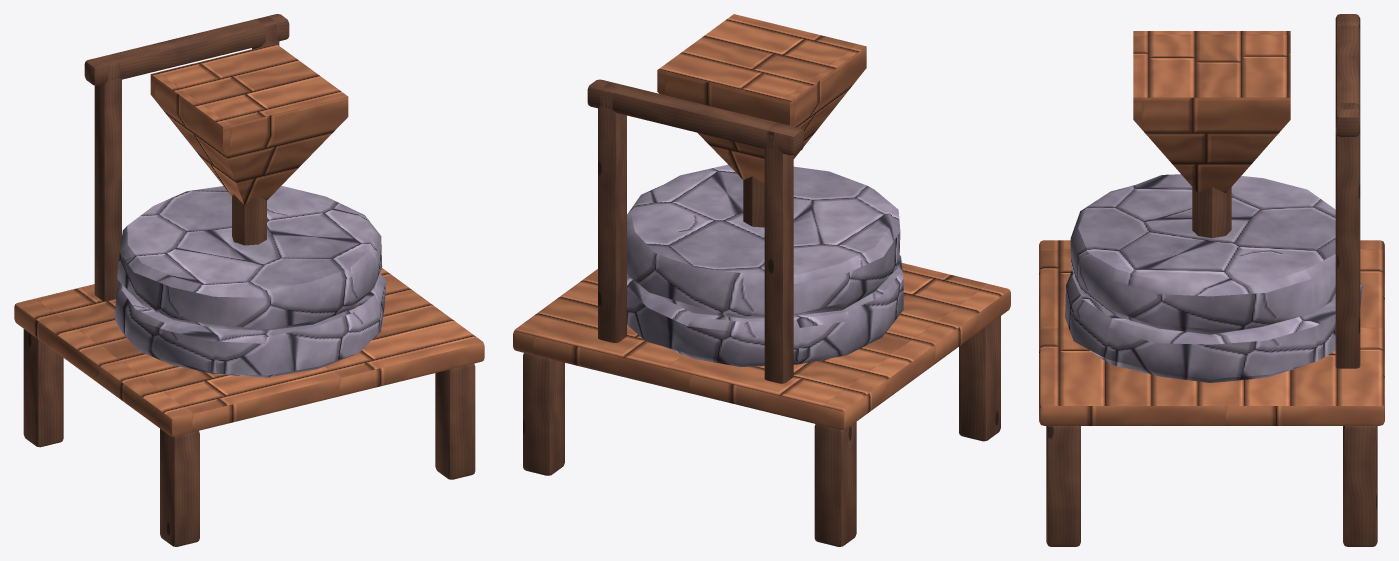
File: millstone.gltf
3 views of the same model, side by side, from view 1: azimuth 30°, elevation 25°; view 2: azimuth 150°, elevation 25°; view 3: azimuth 270°, elevation 25° (orthographic). The views are drawn at different scales.
Parts seen in each view (by area): view 1: millstone_mesh; view 2: millstone_mesh; view 3: millstone_mesh.
Part boxes in pixels (left/top/right/bottom): millstone_mesh: left=14, top=14, right=484, bottom=546; millstone_mesh: left=513, top=14, right=1010, bottom=546; millstone_mesh: left=1039, top=14, right=1384, bottom=546.
Size of what is drawn, in the model's own units: 1.6 by 1.81 by 1.4.
Materials: 3 (3 with a texture image).
